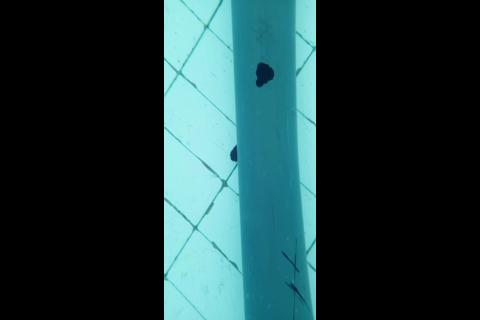kebocoran: (255, 60, 275, 89)
keretakan: (281, 245, 309, 319)
